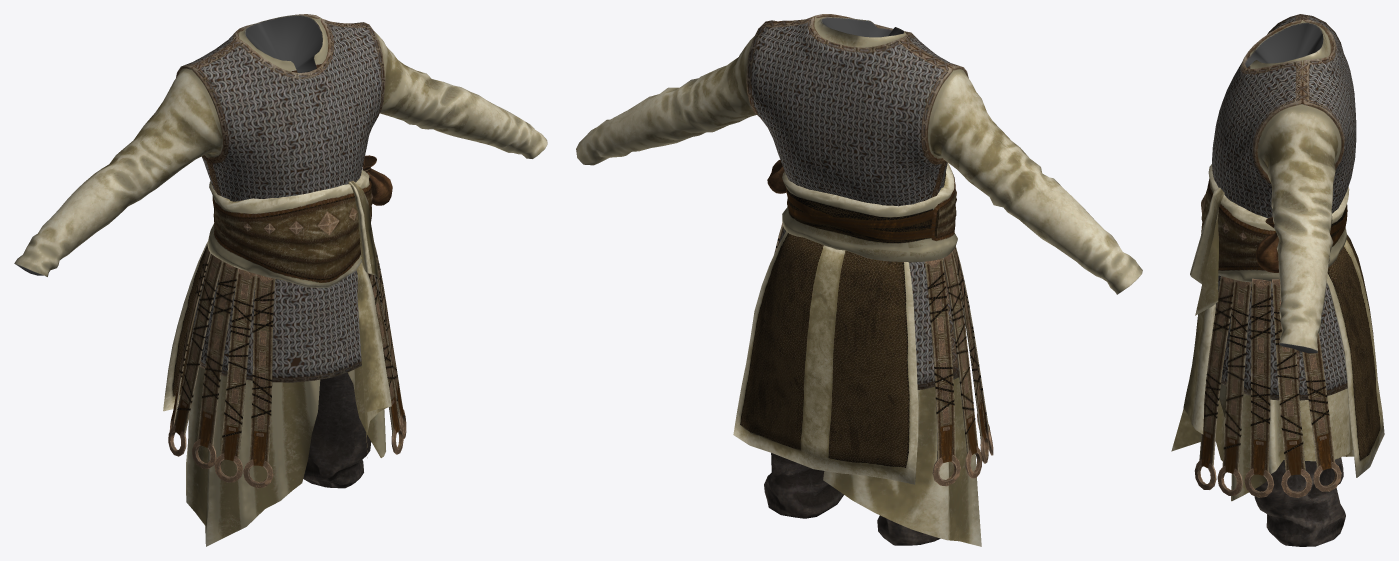
The model's file is dunland_caerdh_chainmail_elite_f.fbx.
The picture shows the model from 3 angles, left to right: view 1: azimuth 30°, elevation 25°; view 2: azimuth 150°, elevation 25°; view 3: azimuth 270°, elevation 25°; orthographic projection. The views are drawn at different scales.
Visible parts, largest first — view 1: dunland_caerdh_chainmail_elite_f, dunland_caerdh_chainmail_elite_f.straps, dunland_caerdh_chainmail_elite_f.beltb, dunland_caerdh_chainmail_elite_f.skirt, dunland_caerdh_chainmail_elite_f.beltbskirt; view 2: dunland_caerdh_chainmail_elite_f, dunland_caerdh_chainmail_elite_f.beltbskirt, dunland_caerdh_chainmail_elite_f.beltb, dunland_caerdh_chainmail_elite_f.skirt, dunland_caerdh_chainmail_elite_f.straps; view 3: dunland_caerdh_chainmail_elite_f, dunland_caerdh_chainmail_elite_f.straps, dunland_caerdh_chainmail_elite_f.beltbskirt, dunland_caerdh_chainmail_elite_f.beltb, dunland_caerdh_chainmail_elite_f.skirt.
Boxes of the visible parts, left/top/right/bottom form: dunland_caerdh_chainmail_elite_f: left=14, top=14, right=547, bottom=488; dunland_caerdh_chainmail_elite_f.straps: left=168, top=243, right=406, bottom=488; dunland_caerdh_chainmail_elite_f.beltb: left=207, top=155, right=392, bottom=287; dunland_caerdh_chainmail_elite_f.skirt: left=186, top=366, right=385, bottom=546; dunland_caerdh_chainmail_elite_f.beltbskirt: left=163, top=181, right=391, bottom=457; dunland_caerdh_chainmail_elite_f: left=576, top=14, right=1142, bottom=545; dunland_caerdh_chainmail_elite_f.beltbskirt: left=733, top=231, right=918, bottom=484; dunland_caerdh_chainmail_elite_f.beltb: left=767, top=160, right=957, bottom=262; dunland_caerdh_chainmail_elite_f.skirt: left=823, top=377, right=981, bottom=546; dunland_caerdh_chainmail_elite_f.straps: left=774, top=222, right=993, bottom=486; dunland_caerdh_chainmail_elite_f: left=1212, top=14, right=1356, bottom=546; dunland_caerdh_chainmail_elite_f.straps: left=1194, top=276, right=1341, bottom=497; dunland_caerdh_chainmail_elite_f.beltbskirt: left=1171, top=187, right=1384, bottom=477; dunland_caerdh_chainmail_elite_f.beltb: left=1201, top=164, right=1349, bottom=282; dunland_caerdh_chainmail_elite_f.skirt: left=1215, top=384, right=1353, bottom=501.
Size of the model in its own units: 1.38 by 0.4771 by 1.21.
4 materials, 4 textured.
